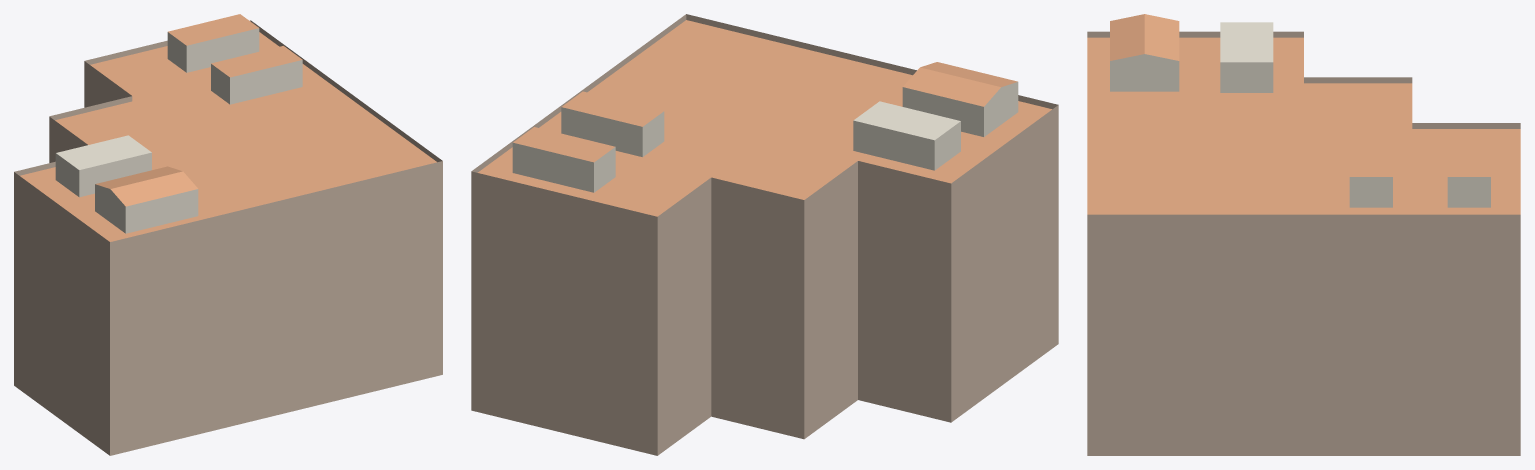
The picture shows the model from 3 angles, left to right: view 1: azimuth 30°, elevation 25°; view 2: azimuth 150°, elevation 25°; view 3: azimuth 270°, elevation 25°; orthographic projection. The views are drawn at different scales.
Visible parts, largest first — view 1: Object_6, Object_9, Object_2, Object_1, Object_5, Object_4, Object_3, Object_8, Object_7; view 2: Object_6, Object_9, Object_2, Object_4, Object_1, Object_5, Object_3, Object_7, Object_8; view 3: Object_6, Object_9, Object_2, Object_3, Object_1, Object_8, Object_7, Object_5, Object_4.
Part boxes in pixels (<box>): Object_6: <box>14,20,442,455</box>; Object_9: <box>20,32,436,241</box>; Object_2: <box>55,135,151,197</box>; Object_1: <box>95,184,198,233</box>; Object_5: <box>211,60,302,104</box>; Object_4: <box>167,28,259,72</box>; Object_3: <box>95,166,197,206</box>; Object_8: <box>168,14,258,45</box>; Object_7: <box>211,46,302,77</box>; Object_6: <box>471,14,1058,455</box>; Object_9: <box>477,20,1051,216</box>; Object_2: <box>853,101,960,170</box>; Object_4: <box>512,142,615,192</box>; Object_1: <box>902,82,1018,136</box>; Object_5: <box>561,107,664,157</box>; Object_3: <box>903,62,1017,106</box>; Object_7: <box>562,91,663,126</box>; Object_8: <box>513,127,615,162</box>; Object_6: <box>1087,31,1520,455</box>; Object_9: <box>1087,37,1520,214</box>; Object_2: <box>1220,22,1273,92</box>; Object_3: <box>1110,14,1179,60</box>; Object_1: <box>1110,54,1179,91</box>; Object_8: <box>1447,137,1490,176</box>; Object_7: <box>1349,137,1392,176</box>; Object_5: <box>1349,177,1392,207</box>; Object_4: <box>1447,177,1490,207</box>.
Size of the model in its own units: 1283 by 1283 by 891.
